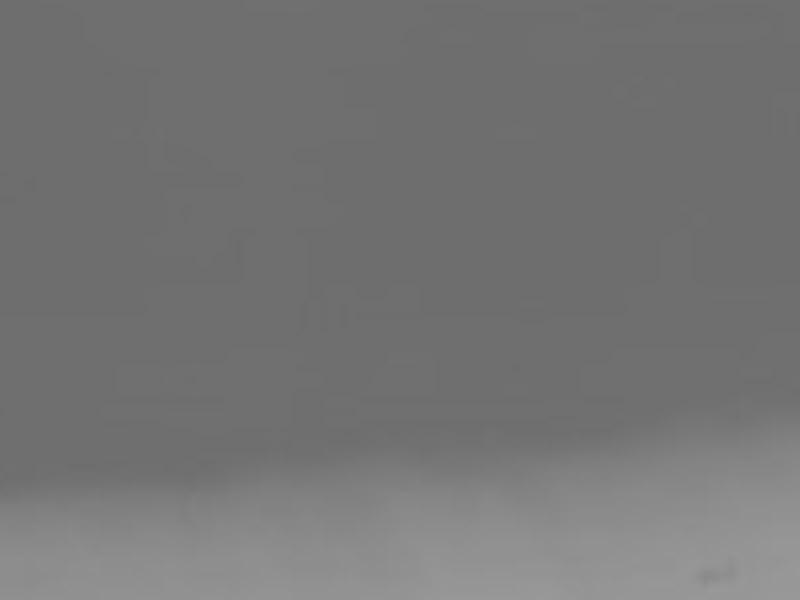defect: (695, 565, 715, 584), (719, 562, 738, 581)
